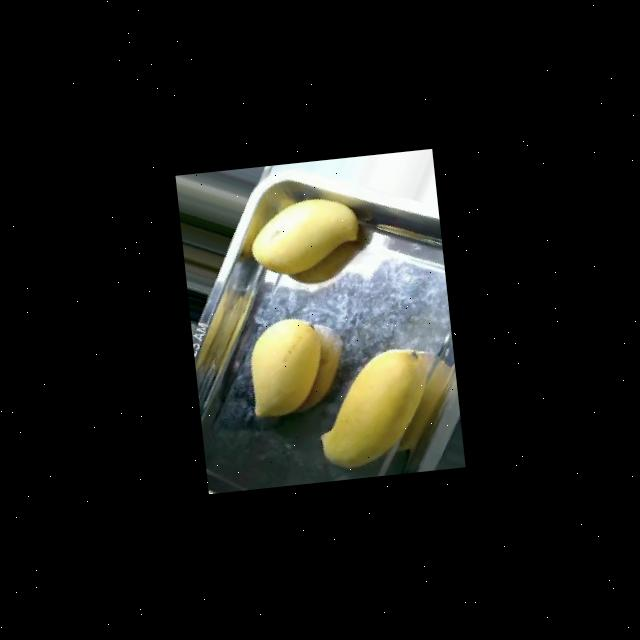Mango: (245, 192, 362, 278), (244, 314, 328, 418)
